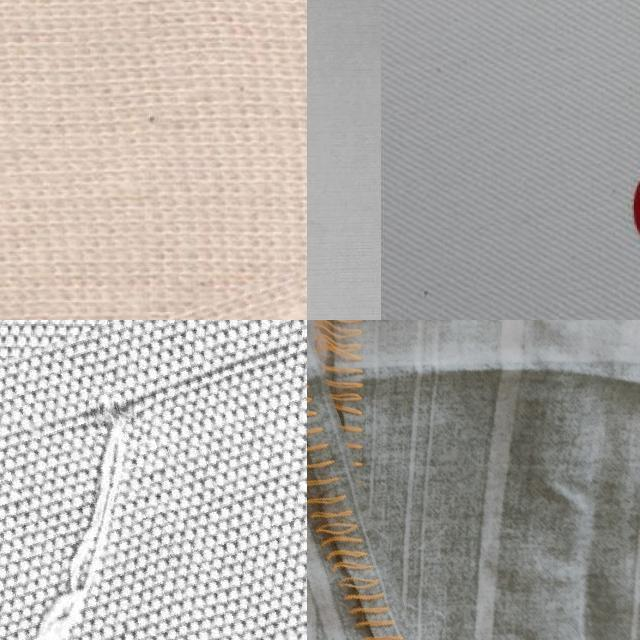Thread_out: (307, 320, 432, 640)
stains: (0, 320, 307, 640)
